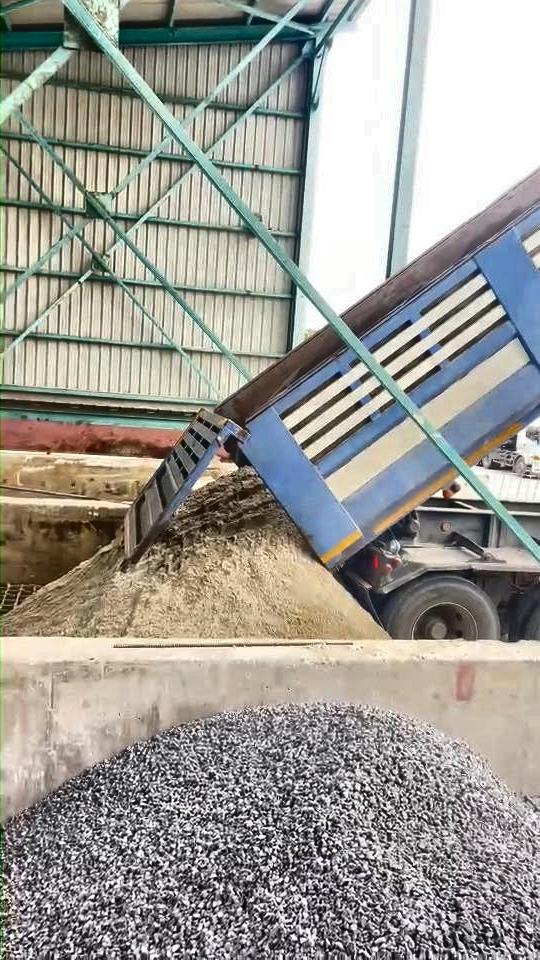gravel: (4, 705, 540, 959)
sand: (5, 468, 387, 639)
